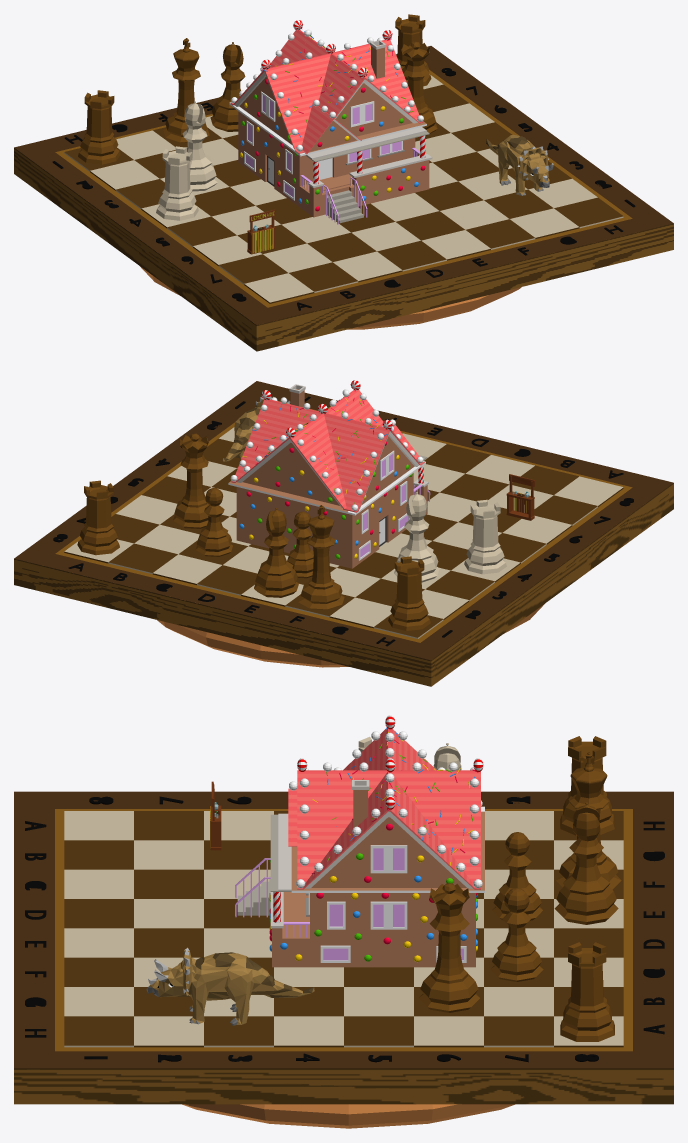
The picture shows the model from 3 angles, top to bottom: view 1: azimuth 30°, elevation 25°; view 2: azimuth 150°, elevation 25°; view 3: azimuth 270°, elevation 25°; orthographic projection. The views are drawn at different scales.
Parts seen in each view (by area): view 1: Cube.002, Cube.1203, ANIMAL_Triceratops, UNDERGROUND_PIZZA, OBJRANDOM_LEMONADE_STAND; view 2: Cube.002, Cube.1203, UNDERGROUND_PIZZA, OBJRANDOM_LEMONADE_STAND, ANIMAL_Triceratops; view 3: Cube.002, Cube.1203, ANIMAL_Triceratops, UNDERGROUND_PIZZA, OBJRANDOM_LEMONADE_STAND.
Part boxes in pixels (box(x1,y1,x2,y2)): Cube.002: box(14, 14, 673, 351); Cube.1203: box(229, 20, 432, 224); ANIMAL_Triceratops: box(486, 134, 553, 195); UNDERGROUND_PIZZA: box(140, 266, 521, 329); OBJRANDOM_LEMONADE_STAND: box(247, 209, 275, 254); Cube.002: box(14, 381, 673, 686); Cube.1203: box(228, 380, 430, 568); UNDERGROUND_PIZZA: box(157, 604, 544, 667); OBJRANDOM_LEMONADE_STAND: box(506, 474, 534, 520); ANIMAL_Triceratops: box(222, 396, 290, 461); Cube.002: box(14, 736, 673, 1104); Cube.1203: box(235, 715, 484, 967); ANIMAL_Triceratops: box(146, 947, 314, 1025); UNDERGROUND_PIZZA: box(182, 1104, 514, 1128); OBJRANDOM_LEMONADE_STAND: box(210, 781, 221, 850).
Bounding box in the file's own units: 3981 × 1697 × 4012.
43 materials, 3 textured.
